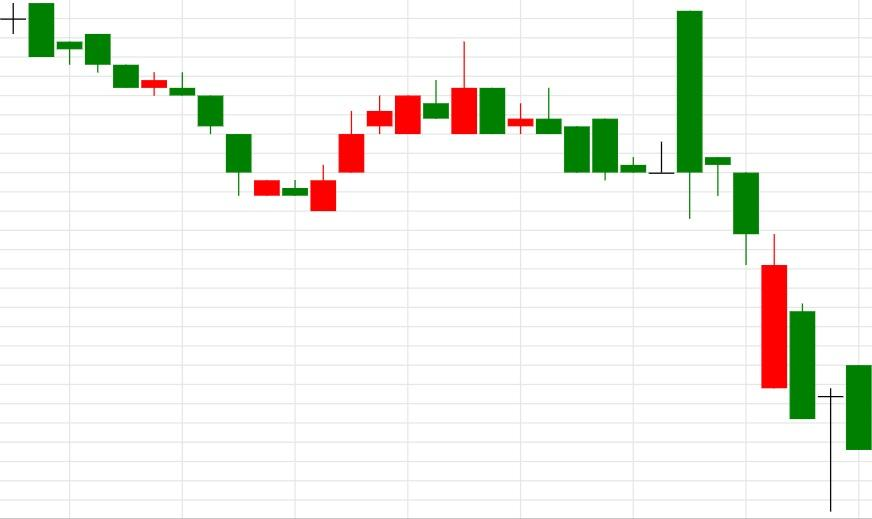three_white_soldiers_rise: (0, 2, 393, 212)
